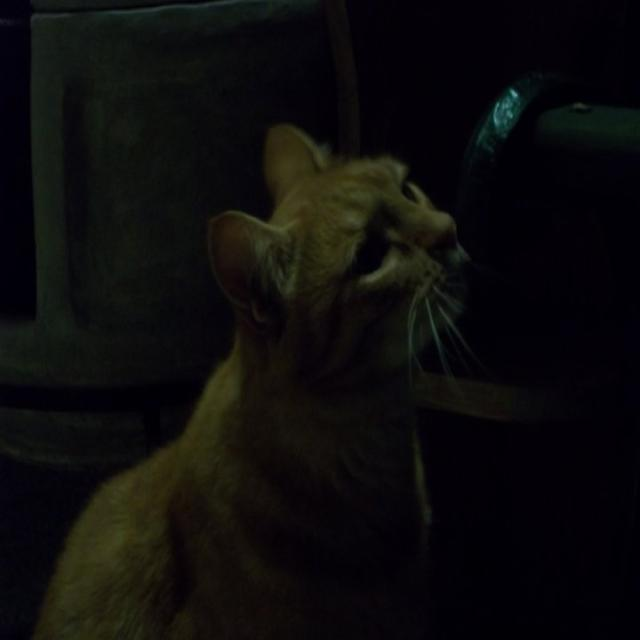Cat: (35, 116, 474, 640)
